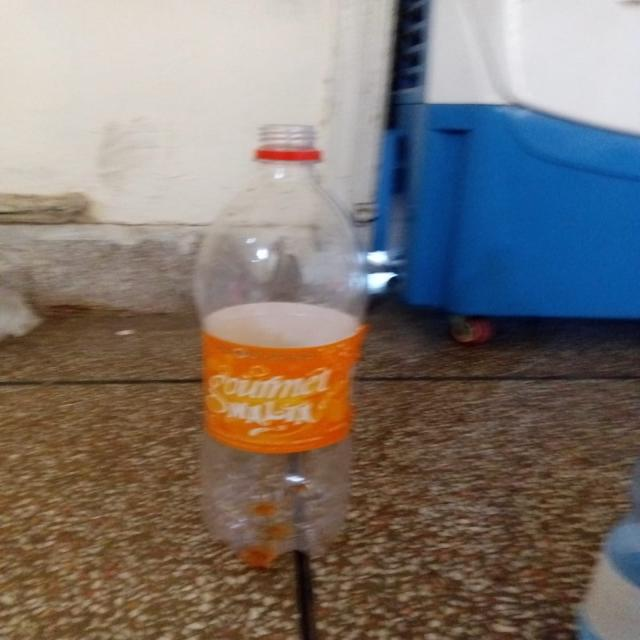bottle: (180, 110, 382, 576)
label: (193, 320, 360, 462)
